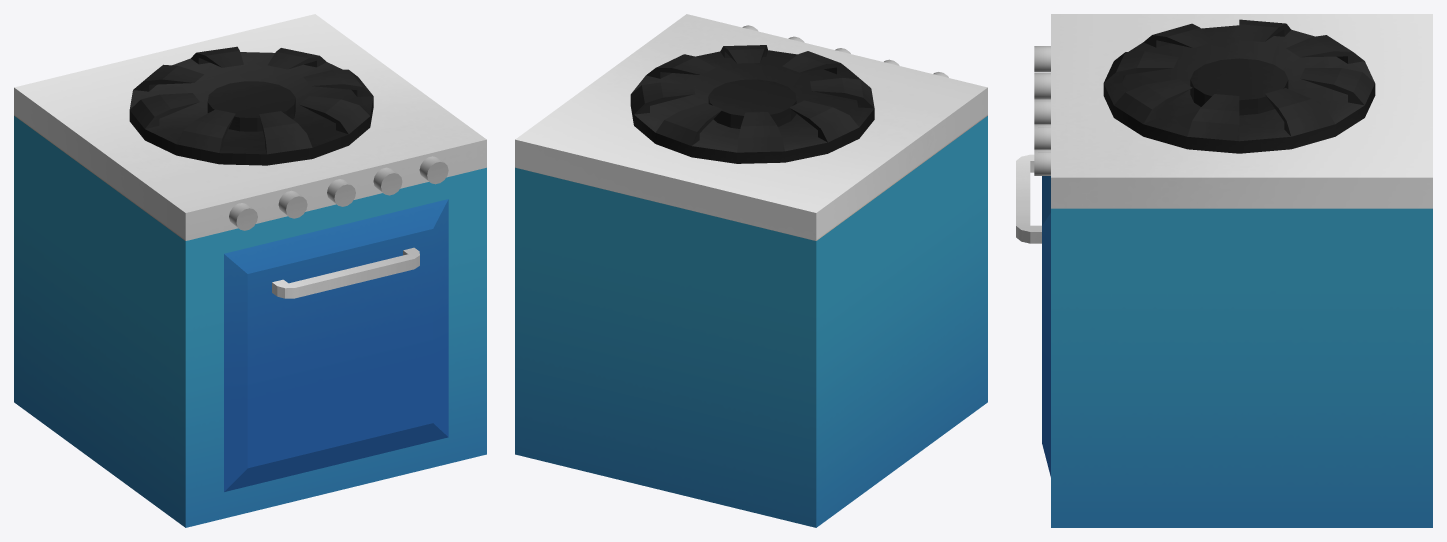
File: mesh_stove.fbx
3 views of the same model, side by side, from view 1: azimuth 30°, elevation 25°; view 2: azimuth 150°, elevation 25°; view 3: azimuth 270°, elevation 25° (orthographic). The views are drawn at different scales.
Visible parts, largest first — view 1: mesh_stove; view 2: mesh_stove; view 3: mesh_stove.
Part boxes in pixels (x1=…): mesh_stove: x1=14, y1=14, x2=486, y2=527; mesh_stove: x1=515, y1=14, x2=987, y2=527; mesh_stove: x1=1016, y1=14, x2=1432, y2=527.
Bounding box in the file's own units: 1 × 1.08 × 1.08.
1 material, 1 textured.
